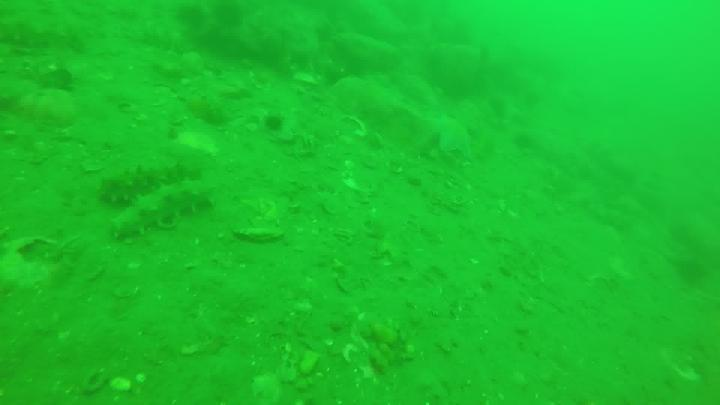holothurian: (108, 180, 218, 236), (101, 165, 202, 207), (4, 16, 79, 51), (138, 25, 188, 55)
scallop: (344, 334, 400, 381), (345, 170, 378, 195), (298, 66, 323, 89)
starfish: (436, 118, 475, 156)
